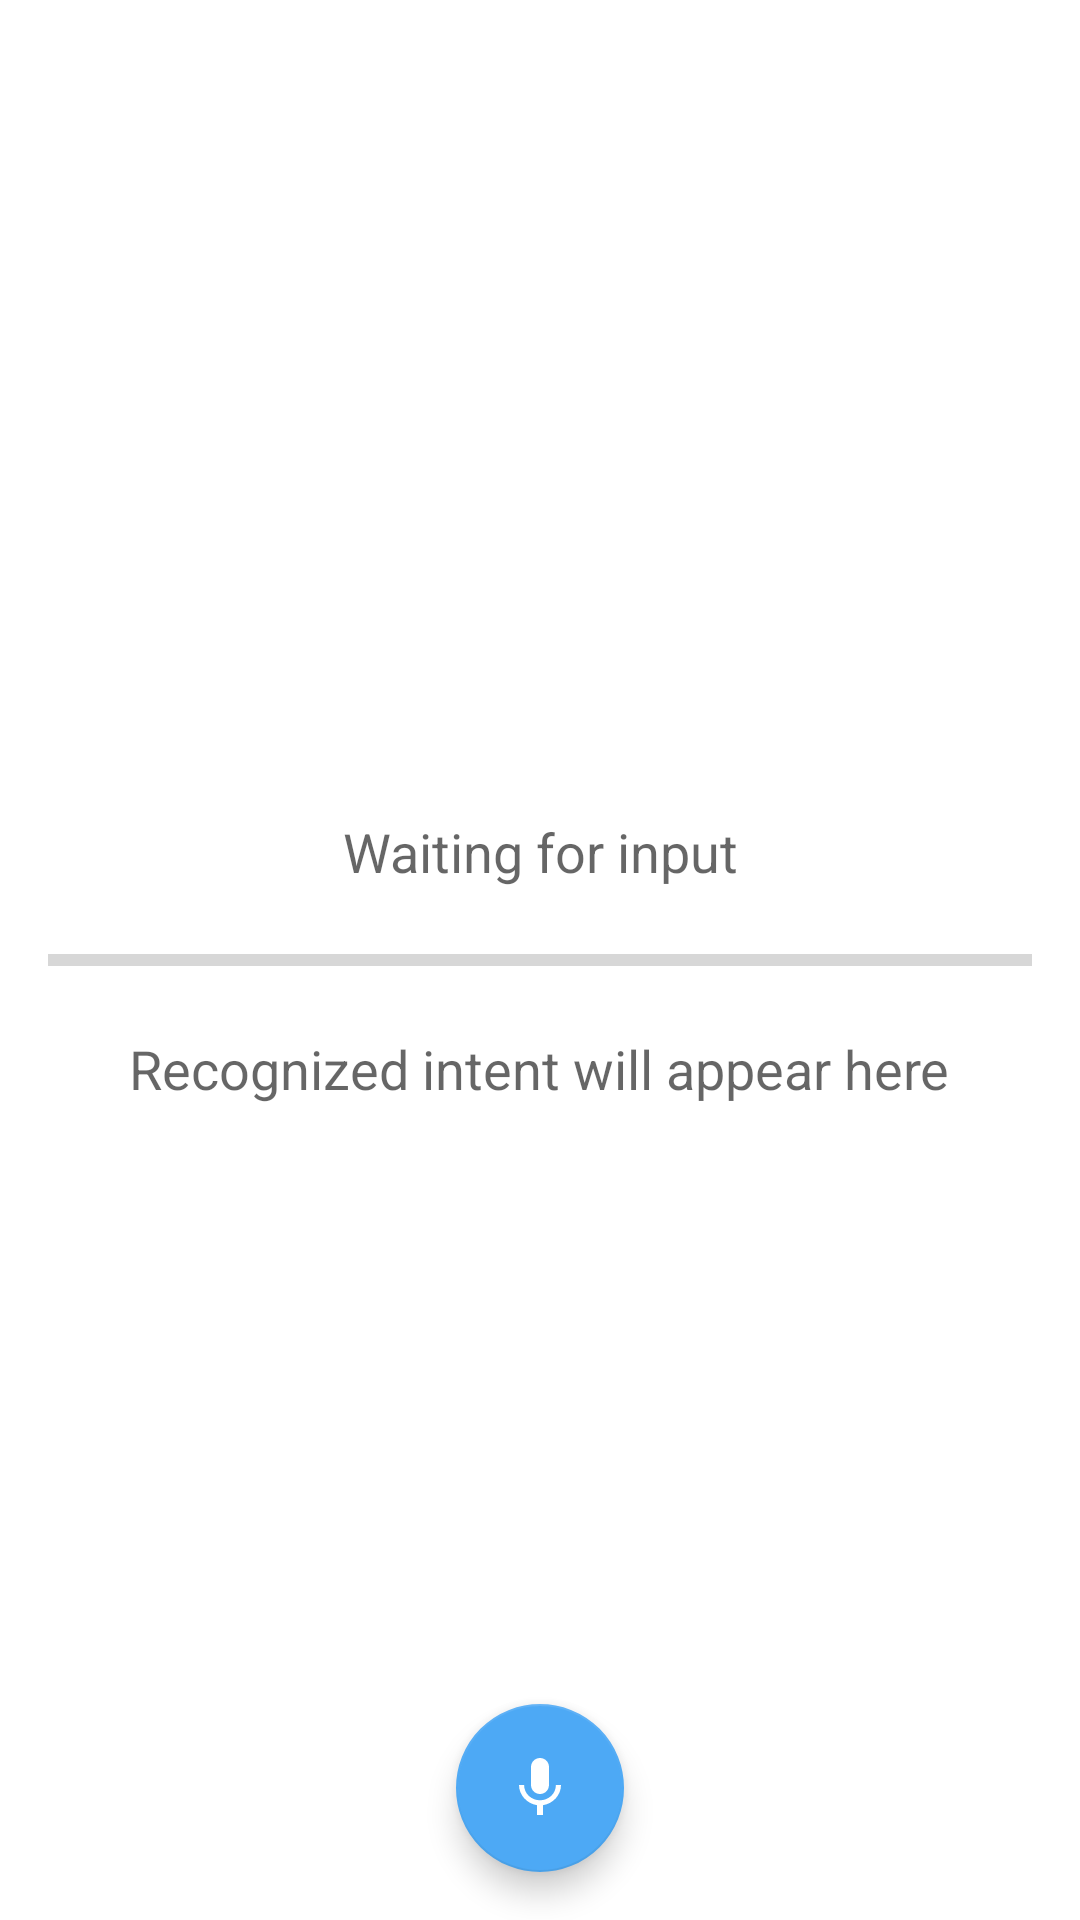

Icons on this 1080x1920 Android screen, each with the point to tap as [x,y]:
Activate microphone: [540,1788]
